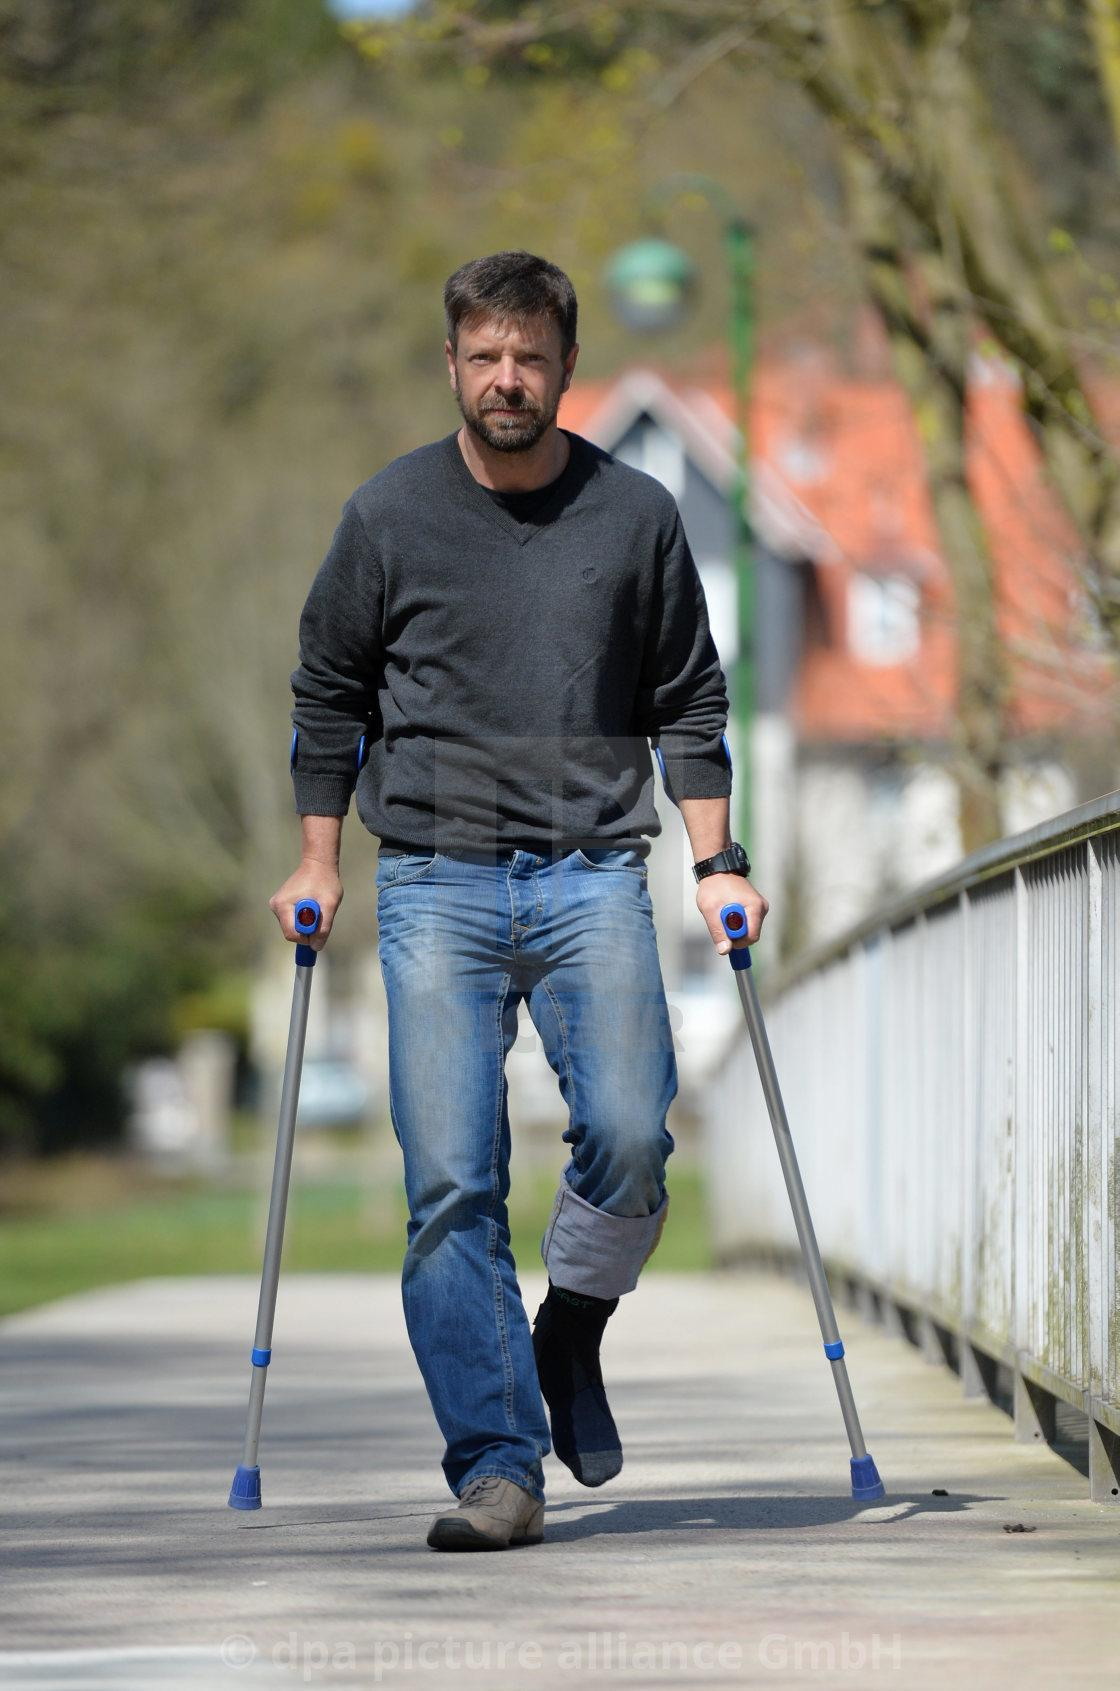crutches: (202, 215, 910, 1557)
